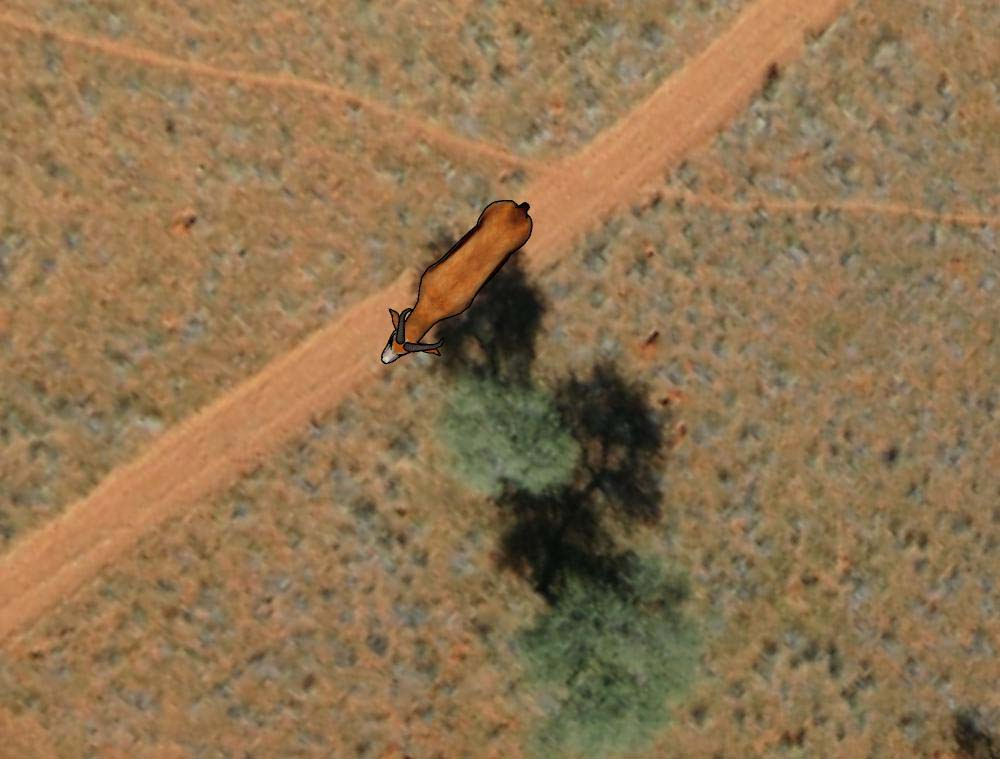springbok: (381, 191, 535, 368)
